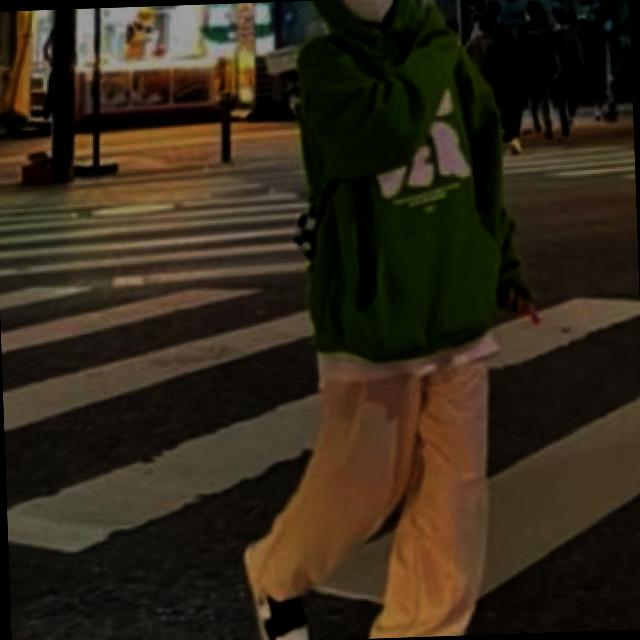cottonpants: (235, 333, 500, 640)
hoodies: (291, 0, 536, 356)
